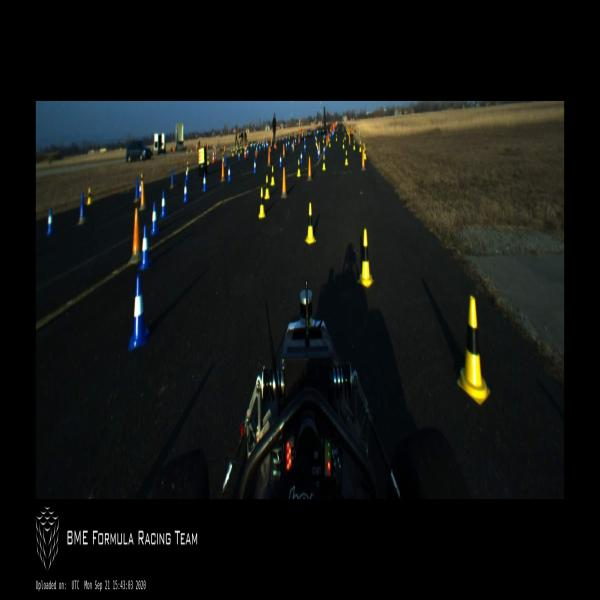blue_cone: (129, 275, 149, 350), (138, 225, 152, 271), (150, 203, 159, 235), (46, 208, 54, 236), (160, 192, 168, 218), (182, 180, 188, 204), (203, 172, 208, 193), (227, 164, 232, 182), (139, 181, 142, 200), (279, 153, 282, 169), (300, 150, 303, 164), (317, 147, 320, 159), (254, 157, 256, 175), (323, 146, 326, 157), (303, 142, 306, 152), (186, 168, 188, 181), (238, 149, 240, 161), (291, 141, 293, 150), (288, 139, 290, 148), (294, 138, 296, 146), (286, 141, 287, 149)
large_orange_cone: (212, 149, 215, 164), (214, 149, 217, 163), (244, 142, 246, 158), (246, 142, 248, 158)
yellow_cone: (458, 297, 489, 404), (357, 227, 374, 288), (304, 202, 316, 244), (258, 186, 266, 219), (264, 174, 270, 200), (296, 160, 302, 178), (270, 166, 275, 186), (87, 187, 92, 205), (322, 154, 326, 172), (345, 148, 348, 166), (140, 175, 144, 186), (206, 155, 210, 165), (364, 147, 367, 160), (359, 140, 362, 153), (353, 139, 356, 151), (342, 138, 345, 150), (328, 139, 331, 147), (322, 135, 325, 143), (335, 133, 337, 142), (316, 138, 318, 146)
